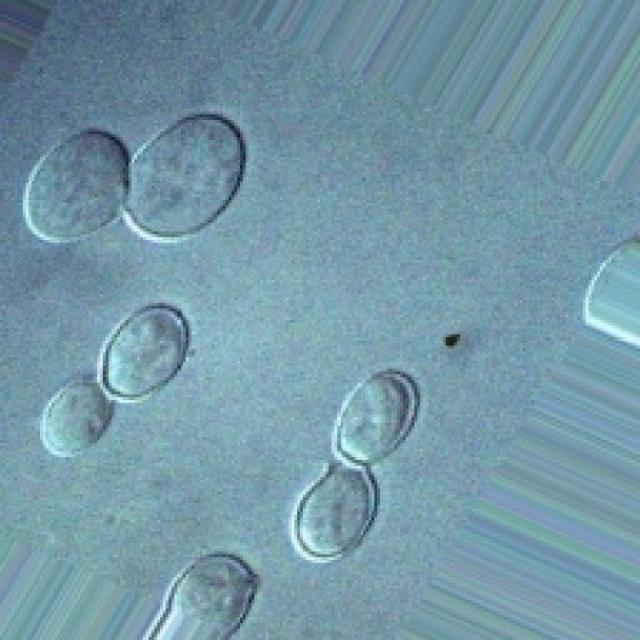Spherical_bacteria: (0, 80, 314, 245), (21, 275, 233, 469), (286, 370, 442, 579)
